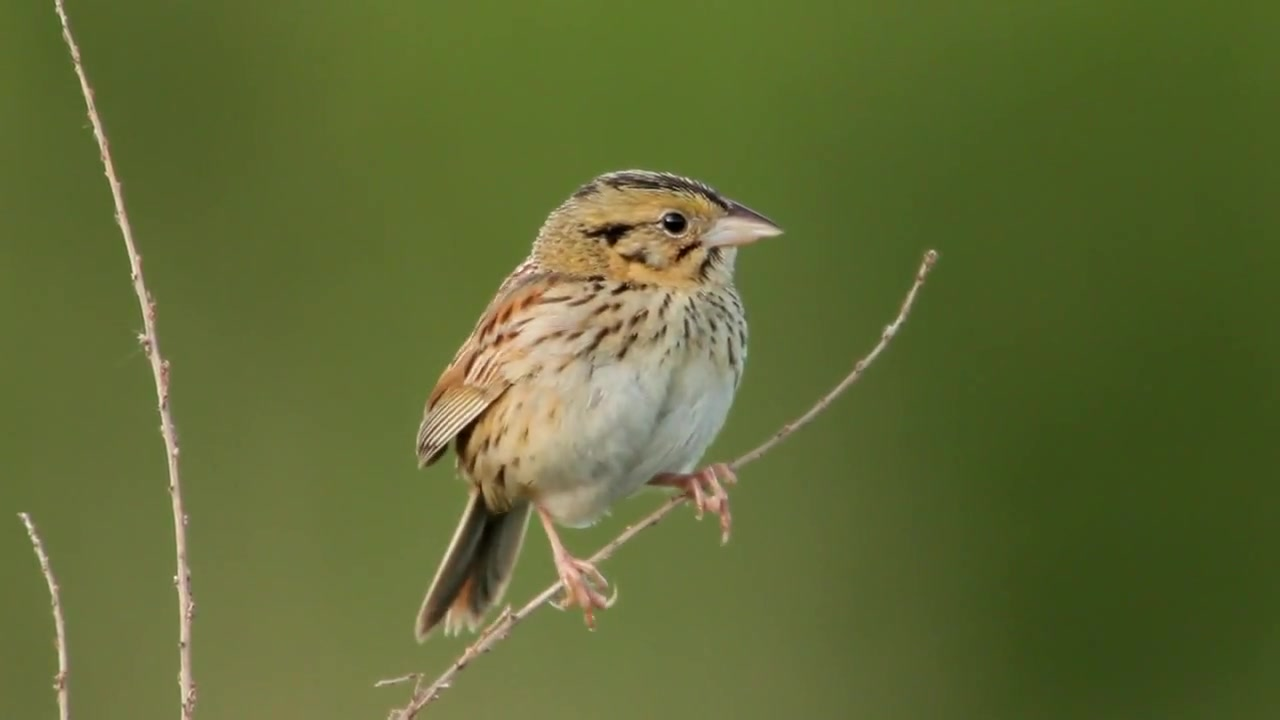bird: (414, 168, 787, 644)
